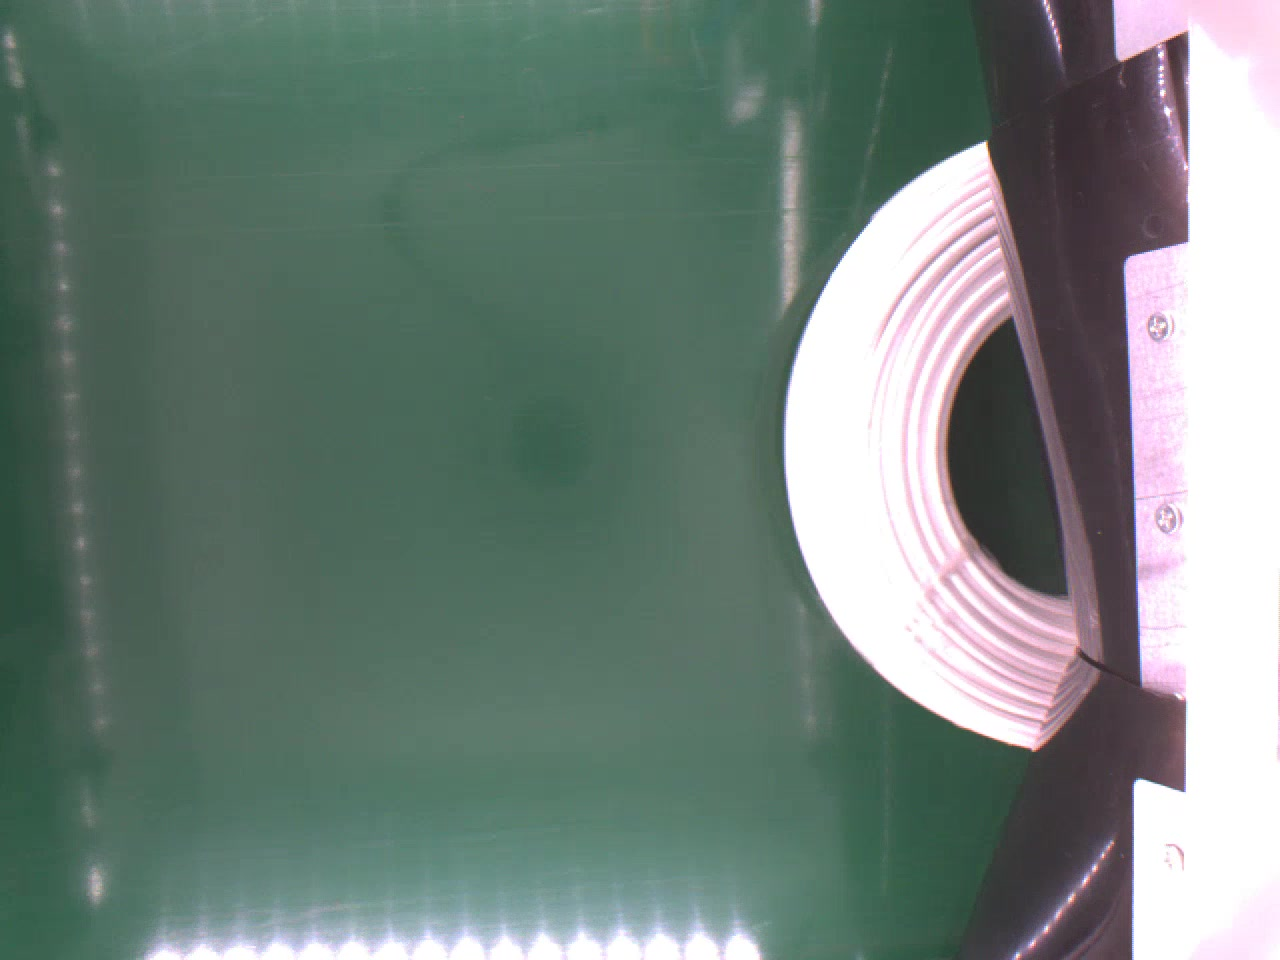white: (782, 137, 1076, 750)
